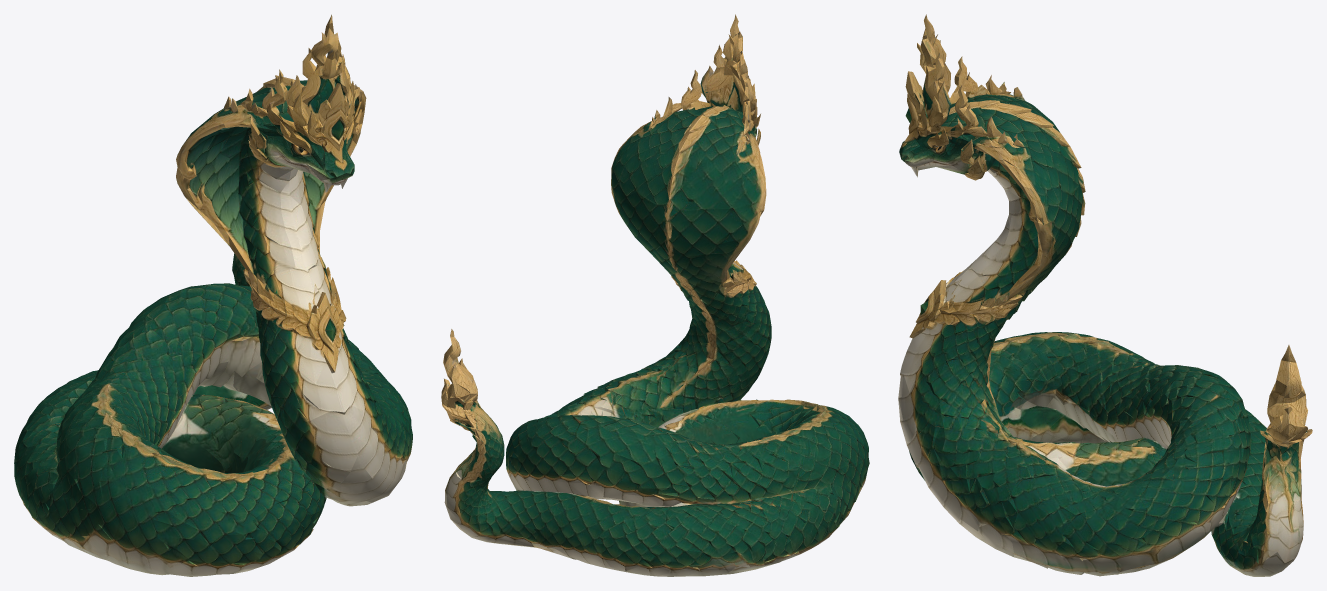
Rendered from sunken_city_3.glb.
3 renders of one model, left to right at view 1: azimuth 30°, elevation 25°; view 2: azimuth 150°, elevation 25°; view 3: azimuth 270°, elevation 25°, orthographic. The views are drawn at different scales.
Size of the model in its own units: 1.36 by 1.9 by 1.41.
Materials: 1 (1 with a texture image).
